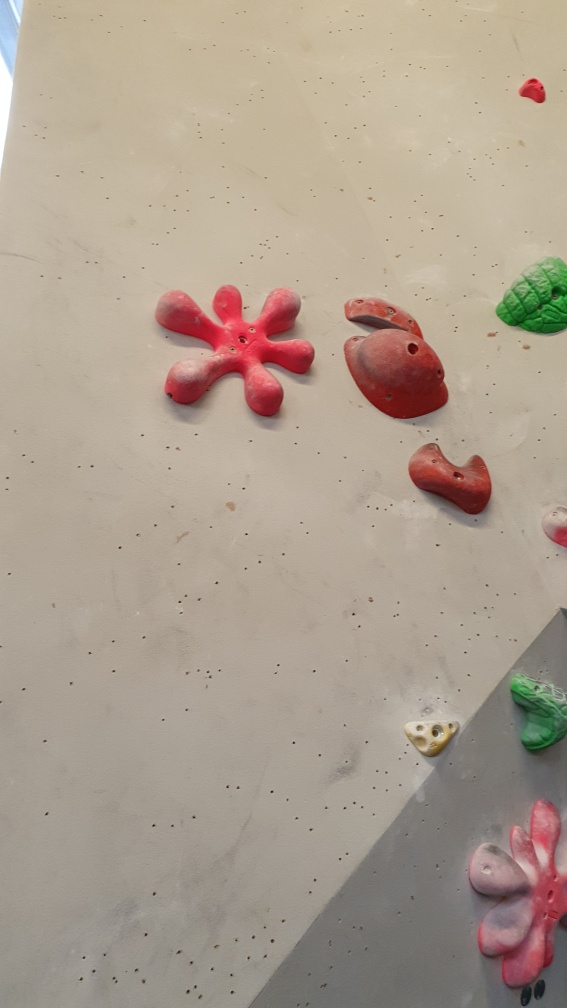Octopus Pinch: (150, 278, 316, 428), (459, 796, 566, 990)
